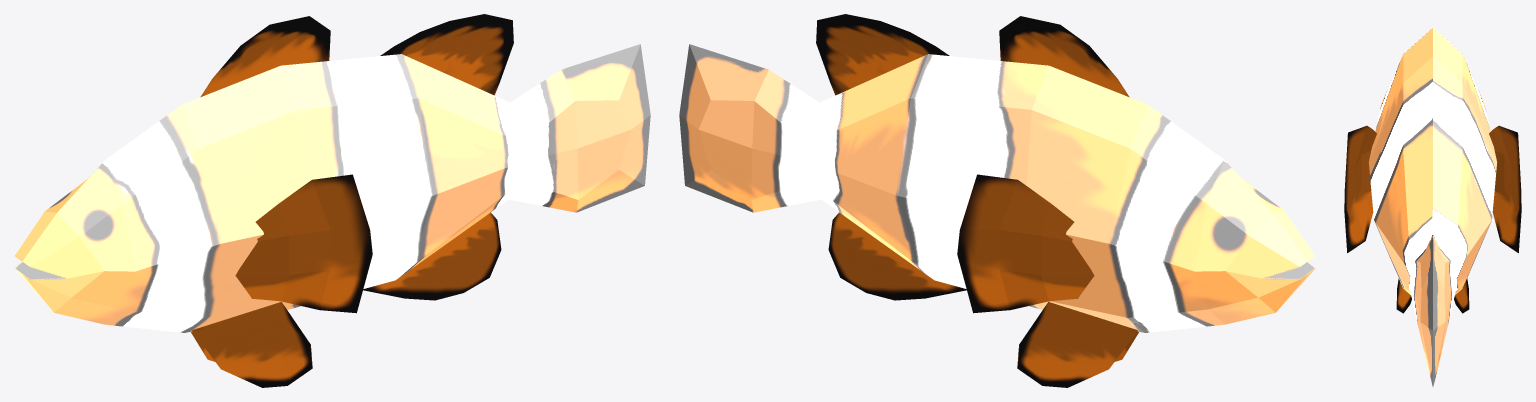
Rendered from clownfish.glb.
3 views of the same model, side by side, from view 1: azimuth 30°, elevation 25°; view 2: azimuth 150°, elevation 25°; view 3: azimuth 270°, elevation 25° (orthographic). The views are drawn at different scales.
Parts seen in each view (by area): view 1: Body; view 2: Body; view 3: Body.
Part boxes in pixels (x1=…): Body: x1=14, y1=14, x2=650, y2=387; Body: x1=679, y1=14, x2=1315, y2=387; Body: x1=1344, y1=27, x2=1521, y2=386.
Bounding box in the file's own units: 3.77 × 2 × 1.07.
Materials: 6 (5 with a texture image).
